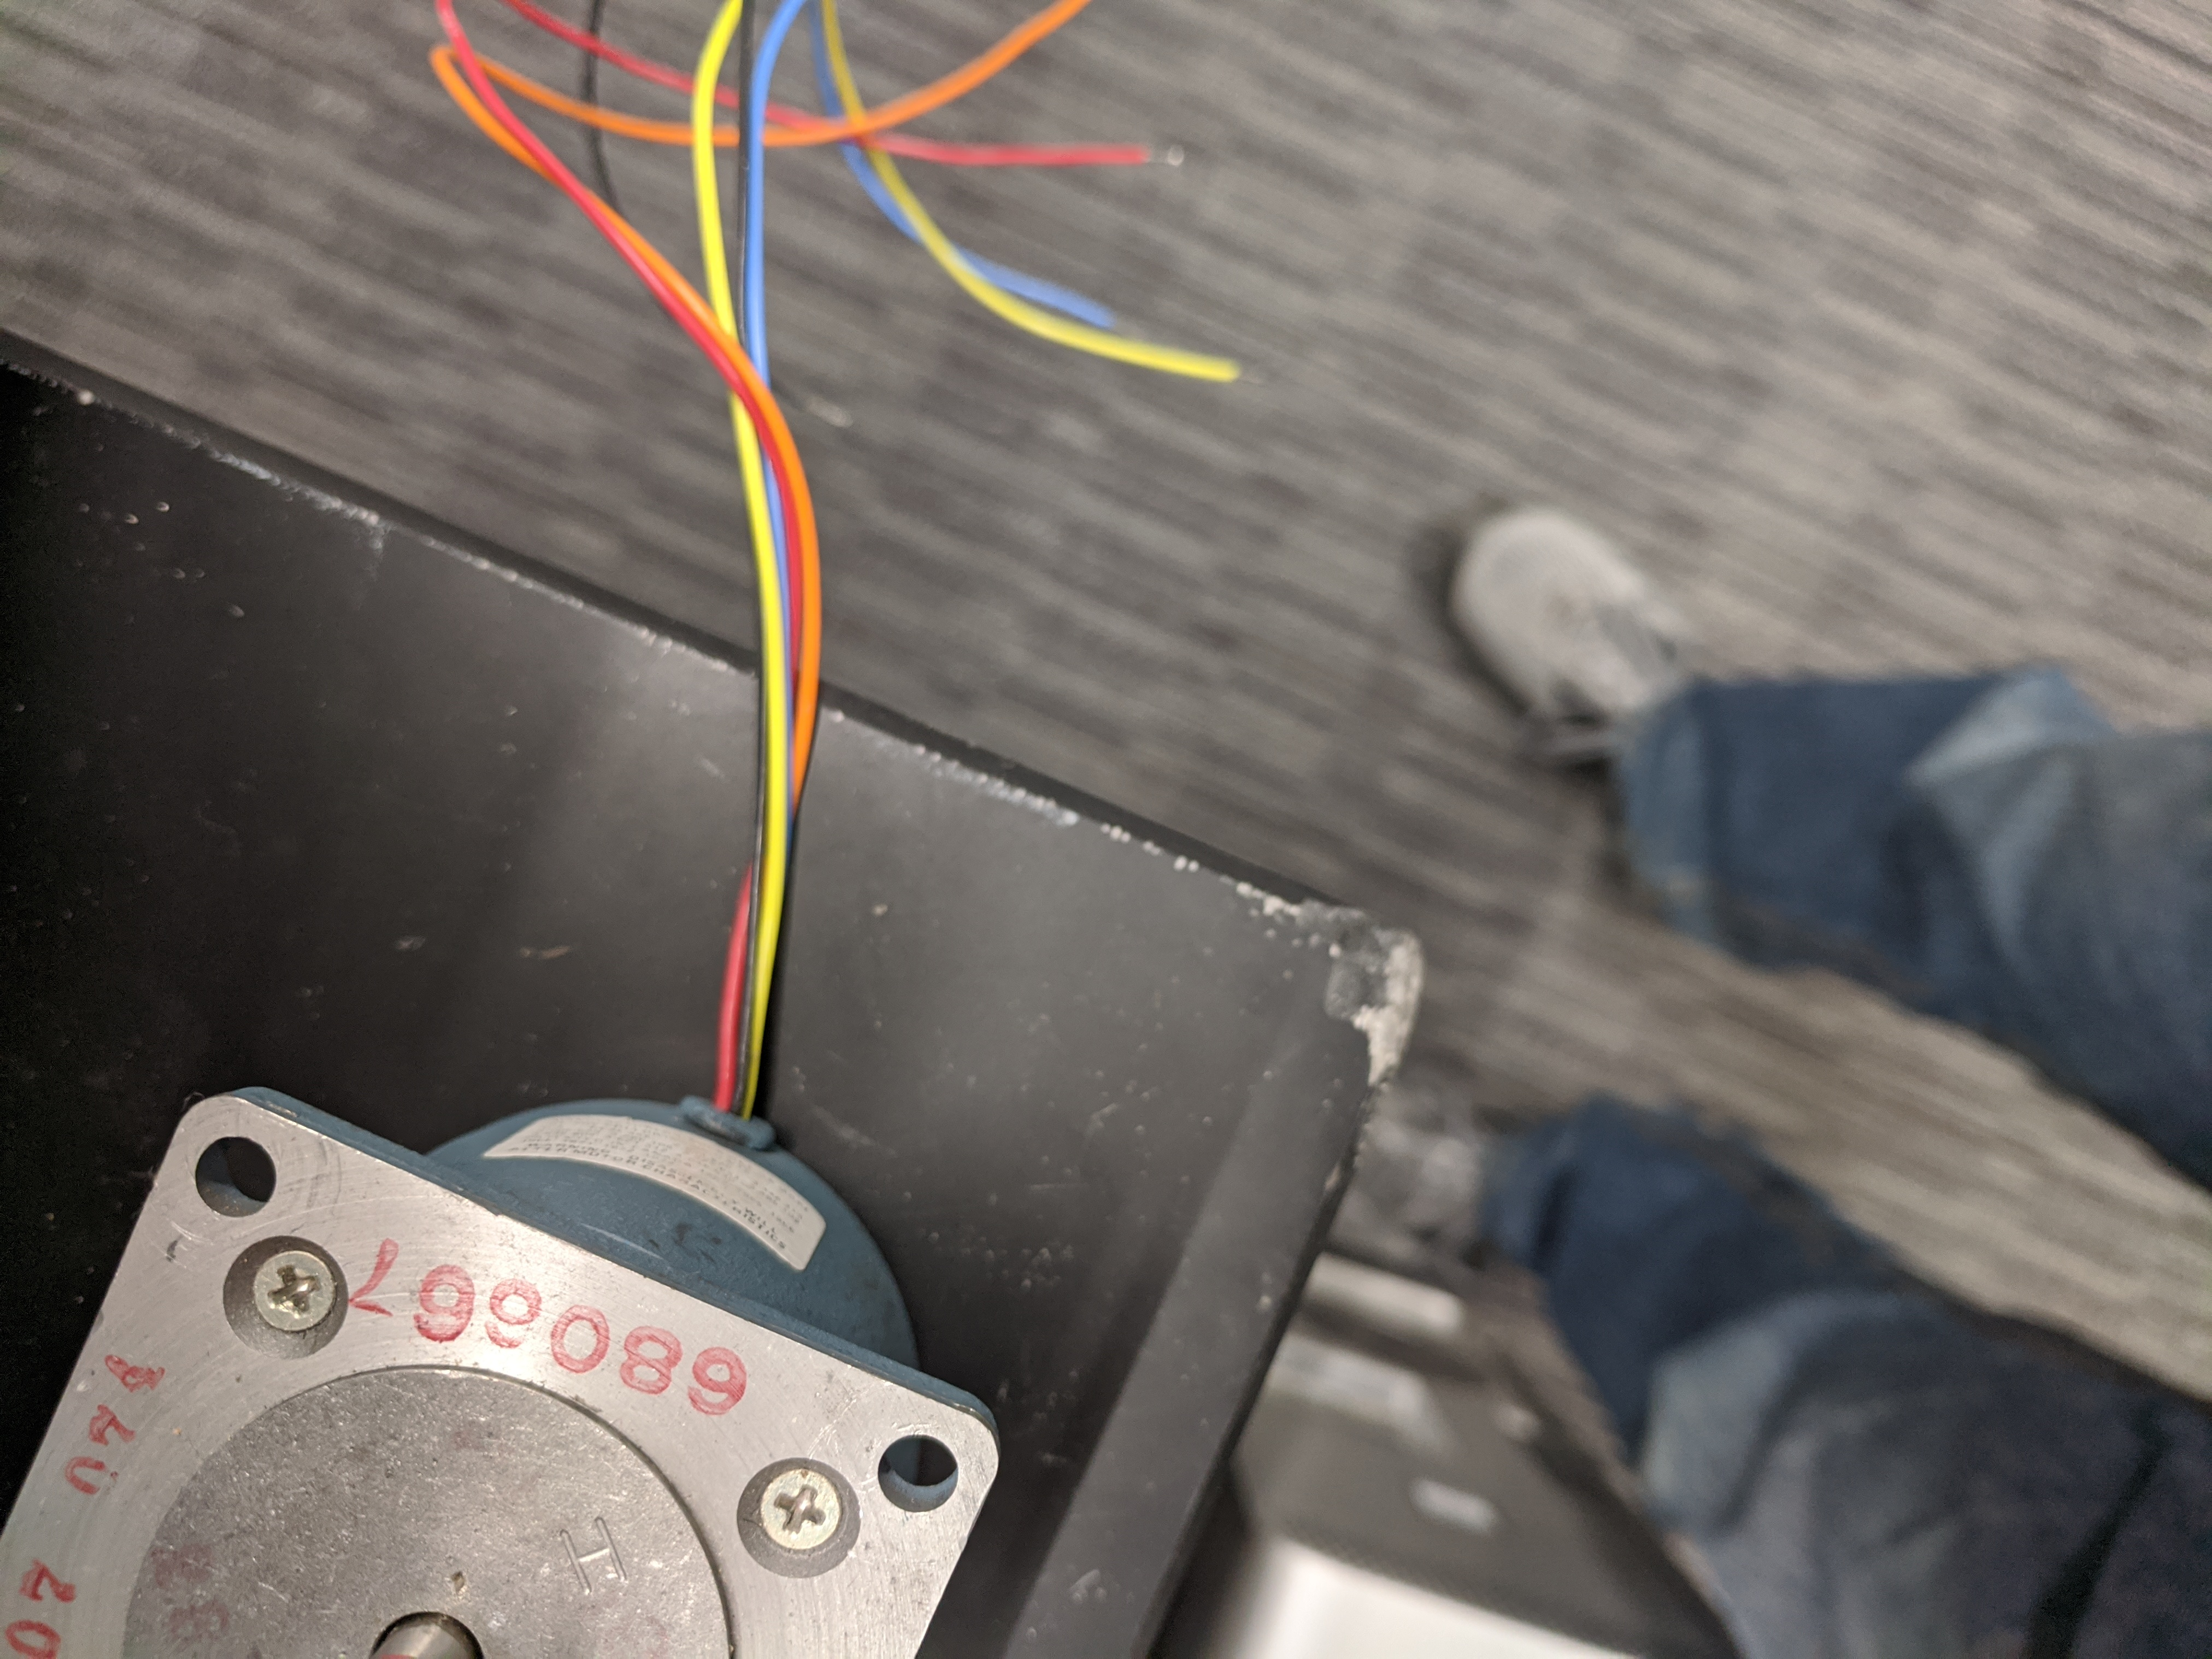cross_recessed_screw: (235, 1246, 340, 1331), (752, 1462, 845, 1544)
